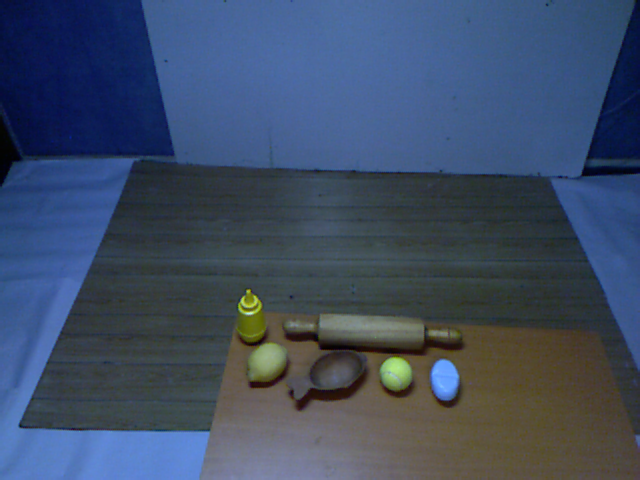jabon: (424, 354, 468, 409)
limon: (240, 337, 290, 388)
mostaza: (229, 285, 273, 350)
pelota: (373, 351, 419, 401)
pescado: (279, 343, 373, 407)
uslero: (279, 305, 473, 356)
